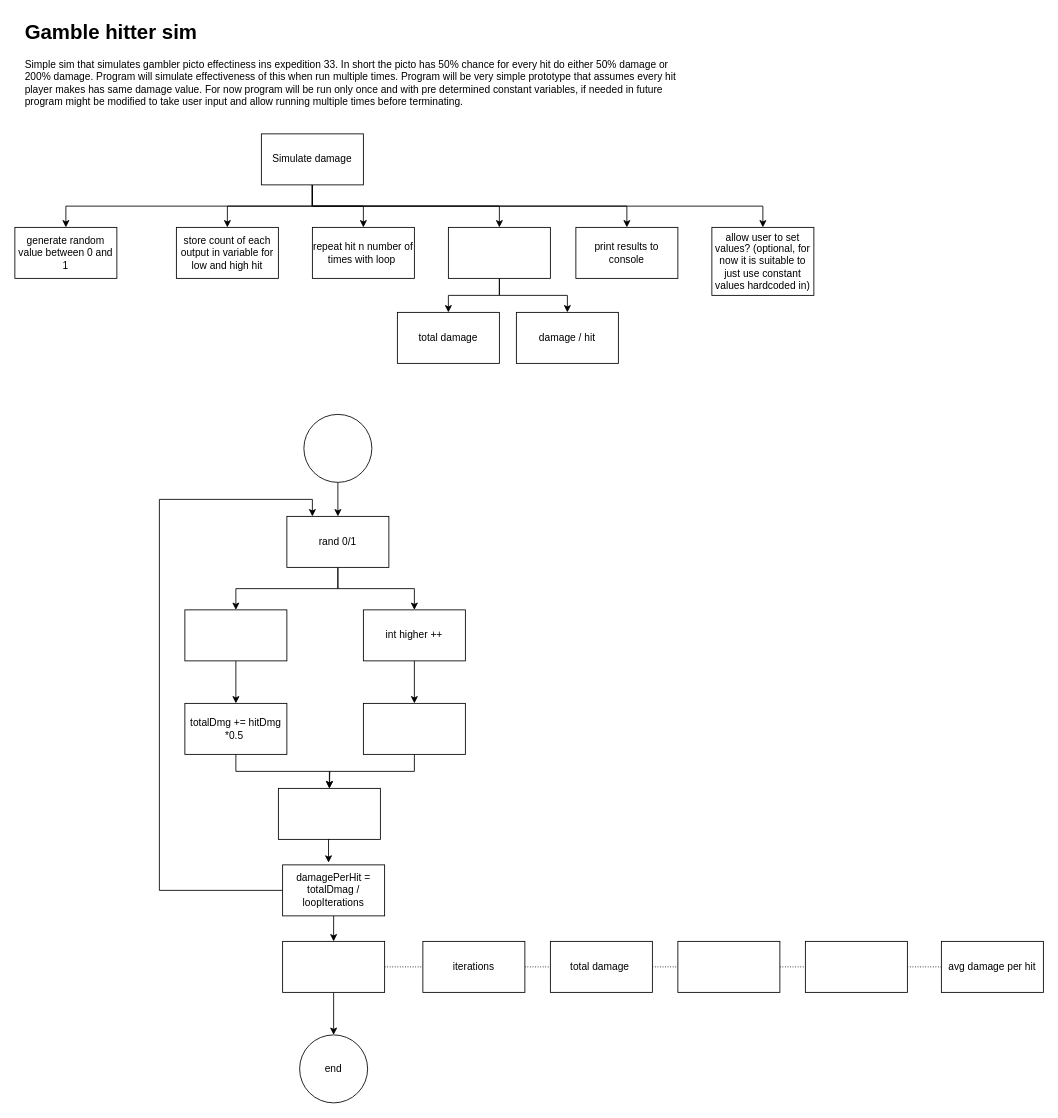
The diagram is 1058 pixels wide and 1118 high, and some of its shapes have lost their labels. The centre of each missing label's shape, as x and y in pixels:
calculate damage from hits: [499,252]
count of highs: [856,966]
count of lows: [728,966]
int lower ++: [235,635]
is loop completed?: [329,813]
print report to terminal: [333,966]
start: [337,448]
totalDmg += hitDmg *2: [414,728]
